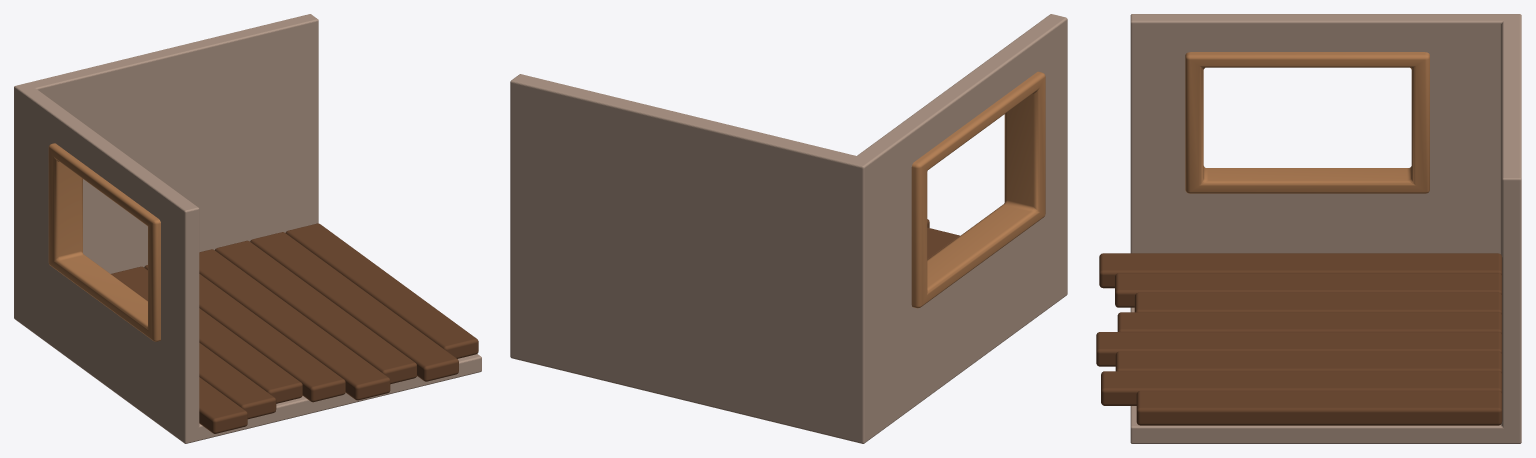
Rendered from room.glb.
The picture shows the model from 3 angles, left to right: view 1: azimuth 30°, elevation 25°; view 2: azimuth 150°, elevation 25°; view 3: azimuth 270°, elevation 25°; orthographic projection. The views are drawn at different scales.
Parts seen in each view (by area): view 1: 큐브, 큐브.002, window; view 2: 큐브, window, 큐브.002; view 3: 큐브, 큐브.002, window.
Part boxes in pixels (x1=…): 큐브: x1=14, y1=14, x2=481, y2=443; 큐브.002: x1=111, y1=223, x2=478, y2=433; window: x1=48, y1=143, x2=160, y2=341; 큐브: x1=510, y1=14, x2=1067, y2=443; window: x1=911, y1=71, x2=1045, y2=308; 큐브.002: x1=927, y1=219, x2=959, y2=259; 큐브: x1=1130, y1=14, x2=1521, y2=443; 큐브.002: x1=1096, y1=253, x2=1502, y2=425; window: x1=1185, y1=52, x2=1429, y2=193.
Bounding box in the file's own units: 4.09 × 3 × 4.35.
